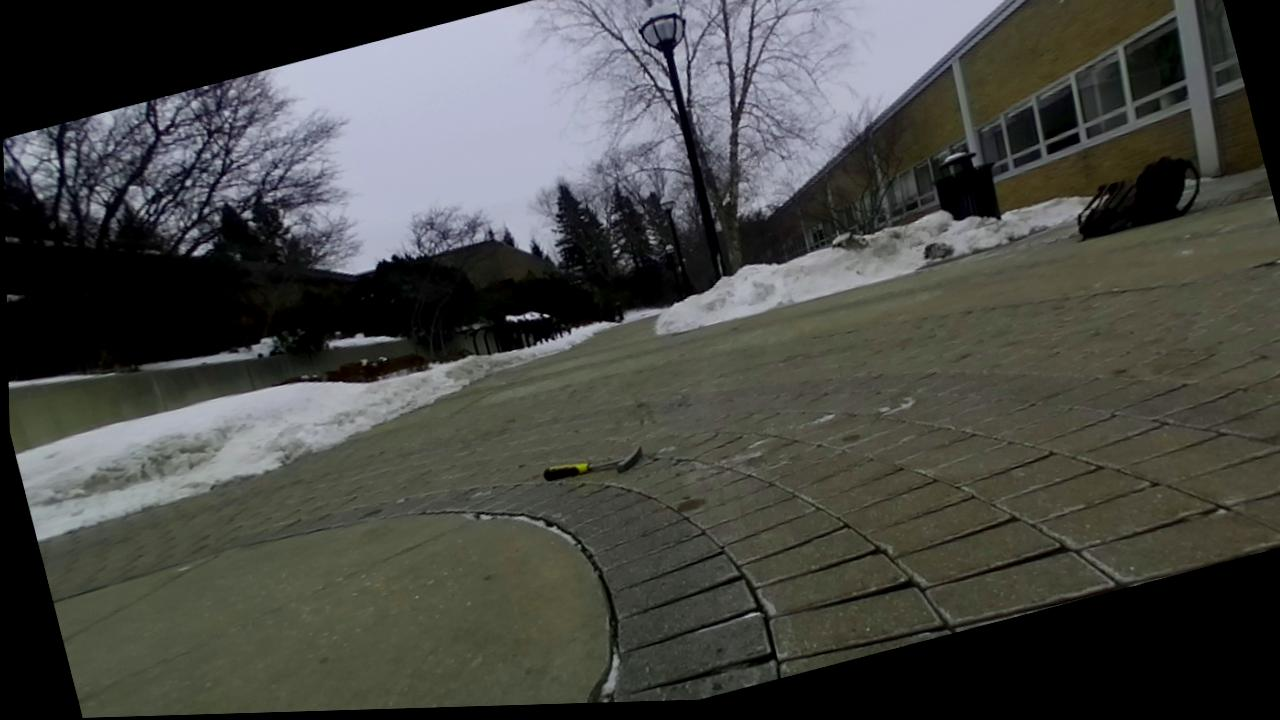pick: (543, 447, 641, 480)
